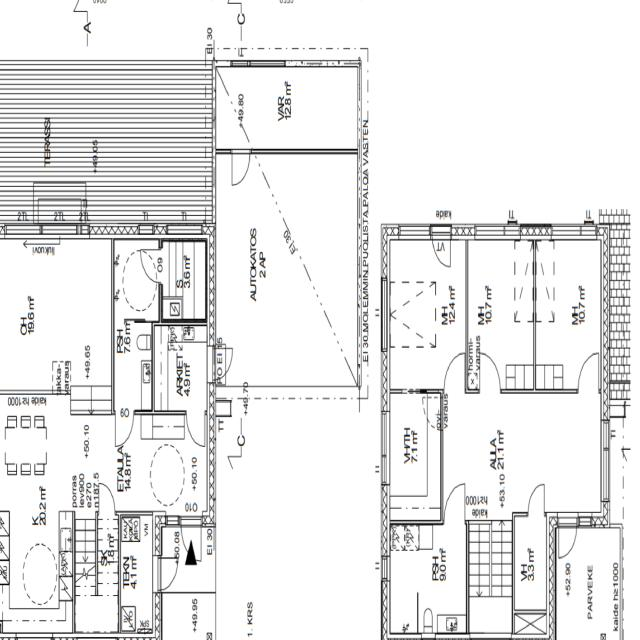door: (181, 512, 201, 562), (207, 348, 234, 380), (153, 558, 180, 590), (432, 224, 450, 272), (558, 512, 576, 560), (479, 352, 500, 393), (578, 352, 599, 393), (444, 352, 464, 393), (444, 483, 464, 524), (140, 249, 162, 282), (186, 410, 205, 447), (115, 410, 134, 447), (232, 149, 250, 186), (98, 482, 115, 515), (528, 483, 544, 516)
